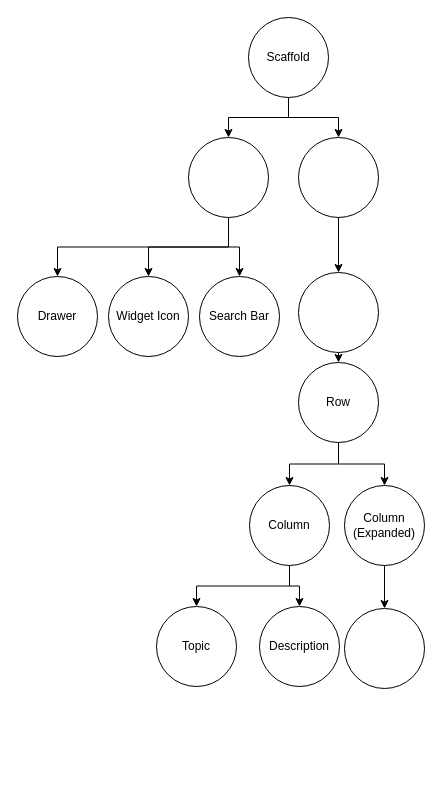
Some shapes in this 447 by 810 pixel diagram are drawn without their labels. Each missing label, with the box of its shape:
App Bar: (188, 136, 268, 218)
Arrow Icon: (344, 608, 424, 688)
ListView: (298, 136, 378, 218)
Material Button: (298, 272, 378, 352)
